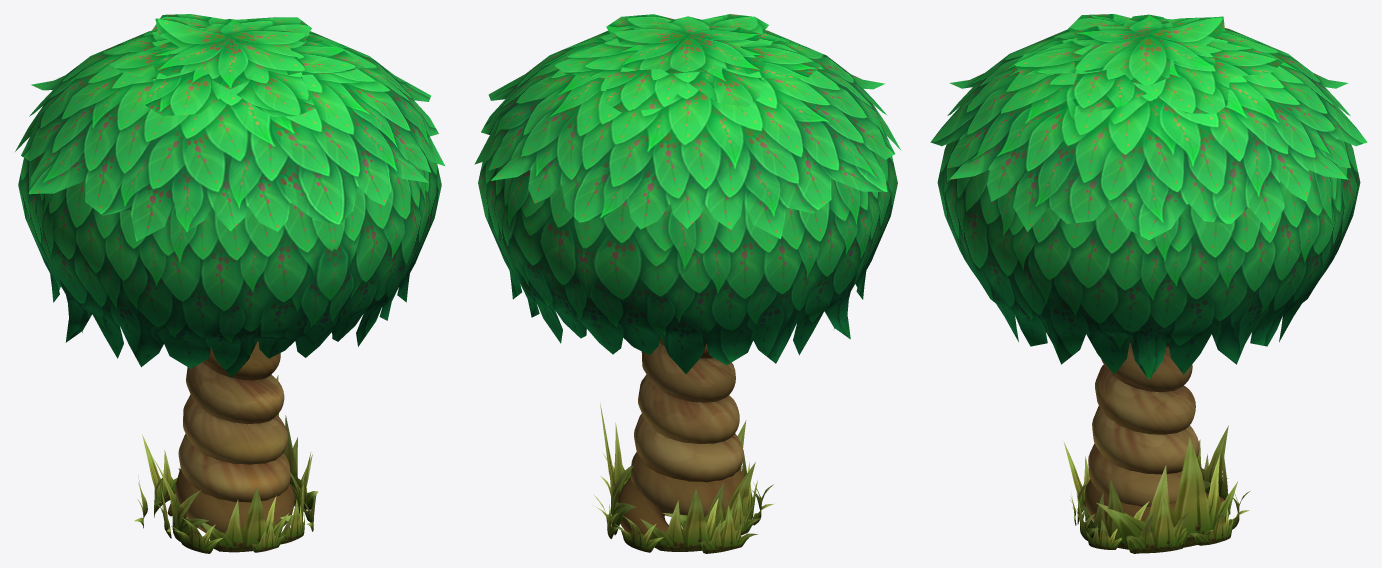
The model's file is Tree1.fbx.
3 views of the same model, side by side, from view 1: azimuth 30°, elevation 25°; view 2: azimuth 150°, elevation 25°; view 3: azimuth 270°, elevation 25° (orthographic).
Visible parts, largest first — view 1: polySurface1011; view 2: polySurface1011; view 3: polySurface1011.
Part boxes in pixels (x1=…): polySurface1011: x1=15, y1=14, x2=444, y2=553; polySurface1011: x1=474, y1=14, x2=900, y2=553; polySurface1011: x1=930, y1=14, x2=1367, y2=553.
Bounding box in the file's own units: 3.08 × 3.6 × 2.9.
